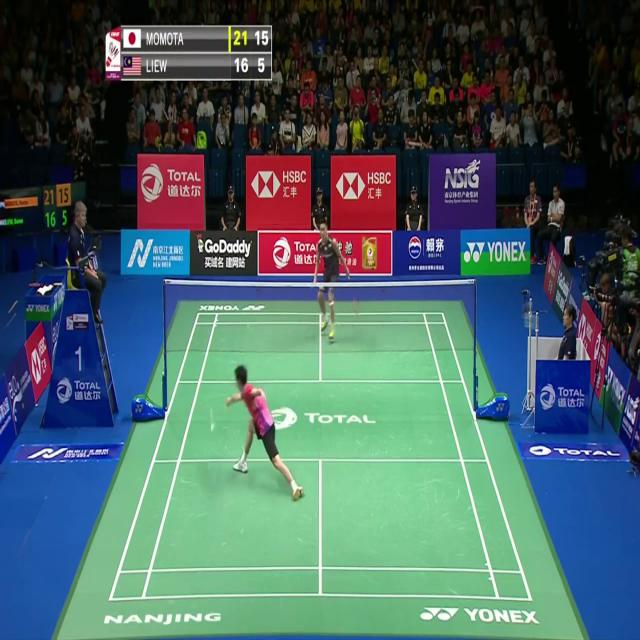Shuttlecock: (210, 421, 216, 432)
